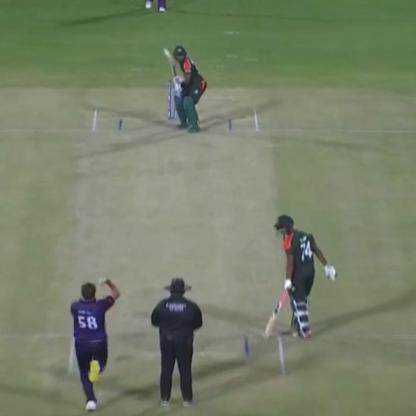ball: (96, 271, 115, 289)
bat: (254, 288, 292, 348), (157, 40, 184, 93)
pitch: (65, 85, 292, 395)
